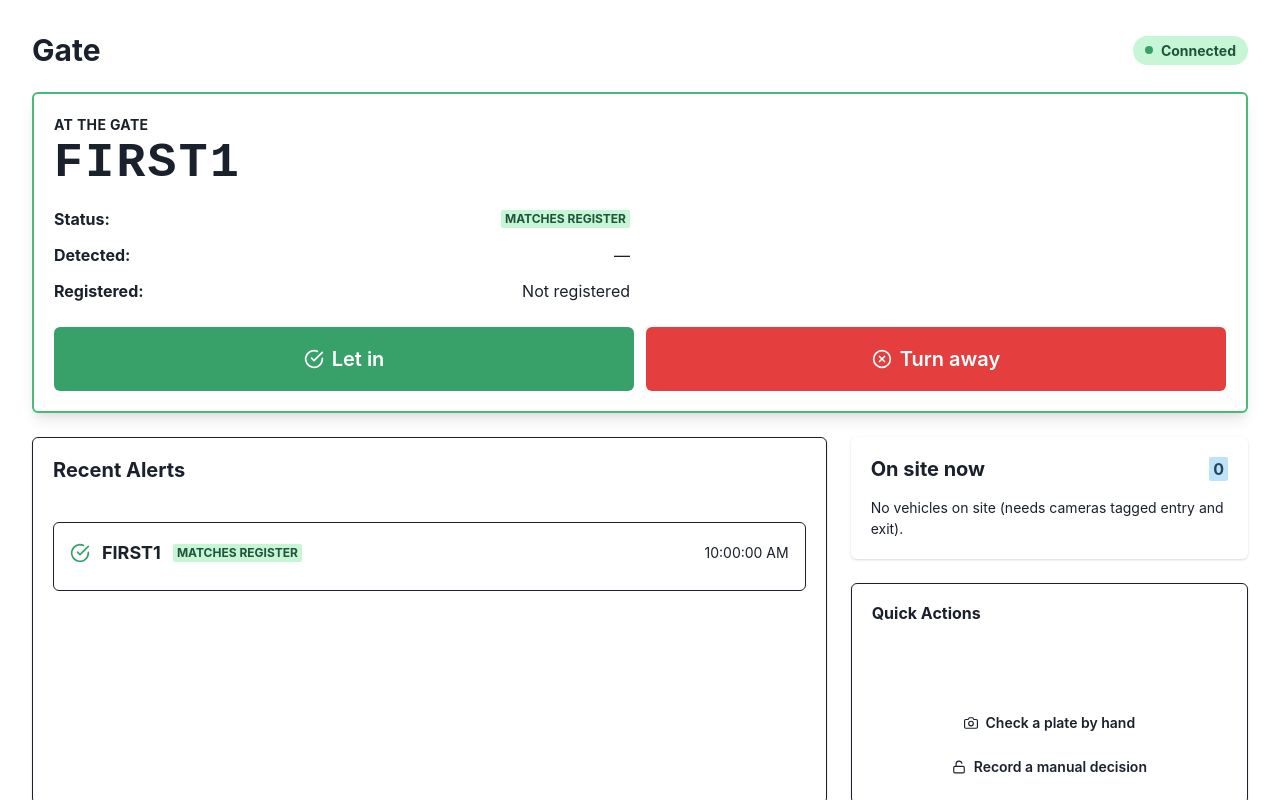
Test: GuardDashboard decisions › a decision the server refuses is reported, not queued as offline
What coordinates should you click on to do the following:
click the button "Turn away"
I would click on:
 (936, 359)
Its box is [646,327,1226,391].
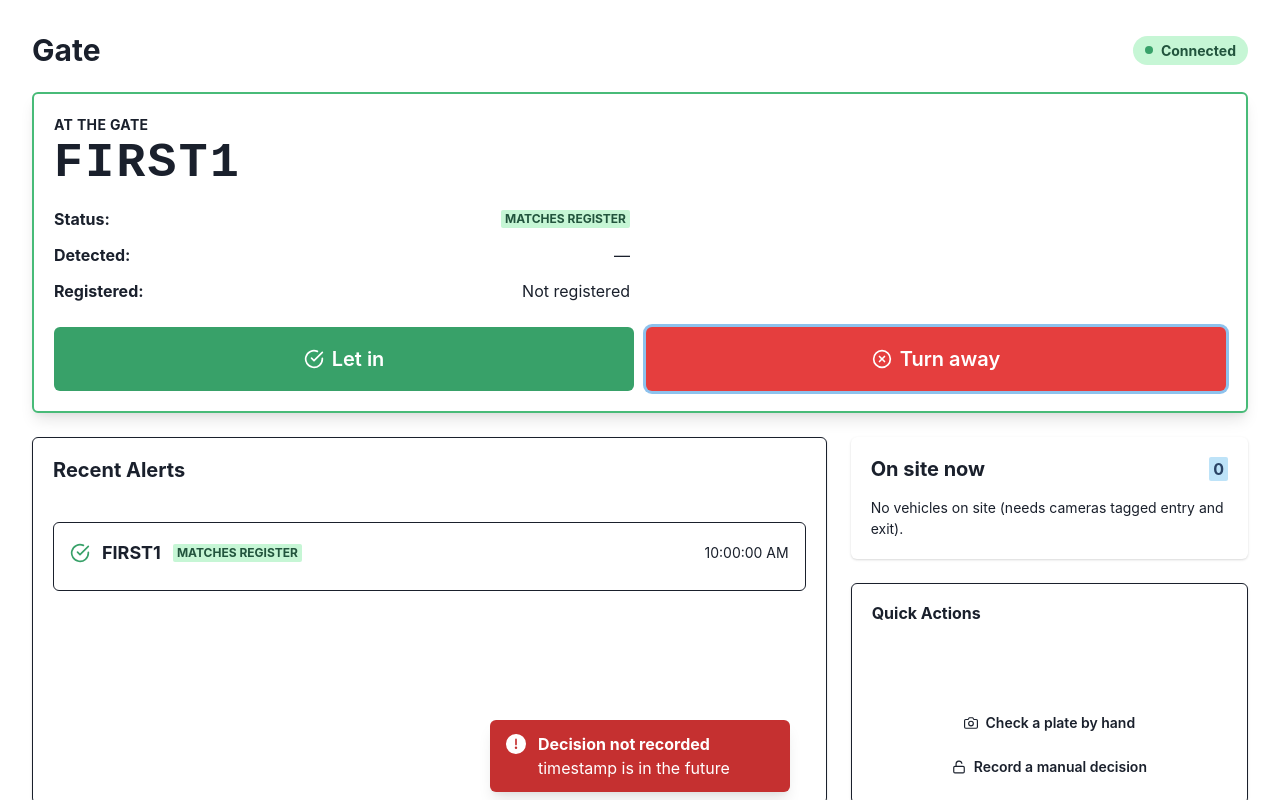
Now the text "Decision not recorded" is shown, box [538,734,710,754]
